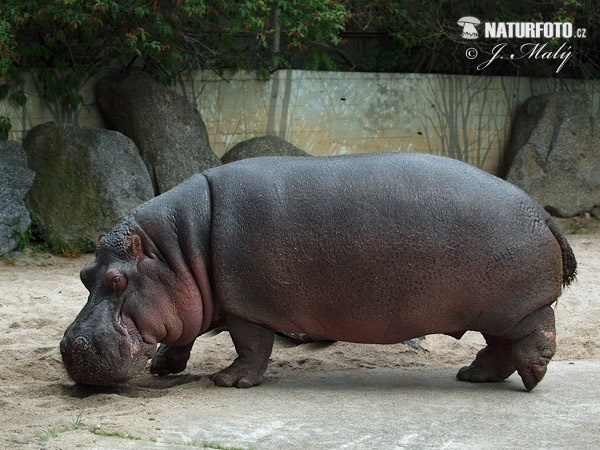hipopotamo: (45, 131, 583, 414)
